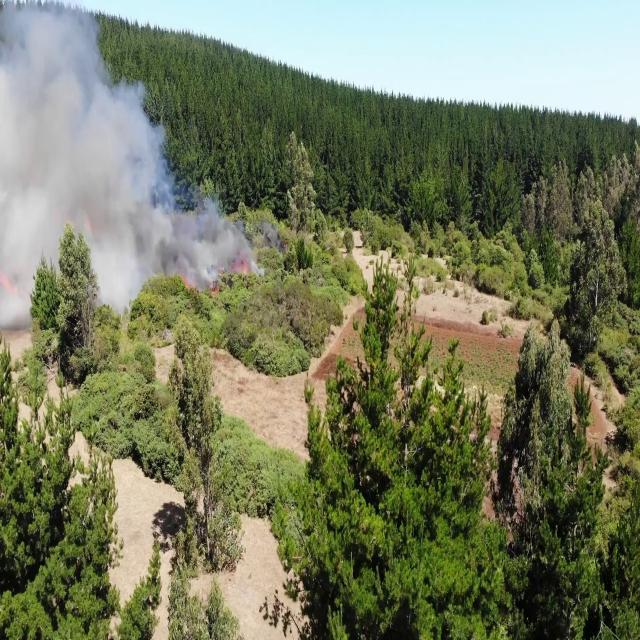Smoke: (0, 2, 140, 324), (144, 178, 260, 290)
